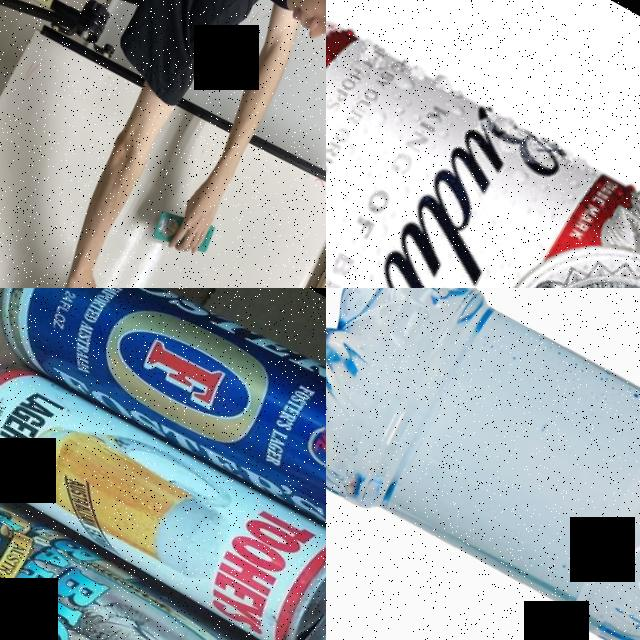bottle: (326, 288, 640, 640)
can: (0, 341, 326, 640), (0, 288, 326, 572), (326, 0, 640, 288), (0, 460, 326, 640)
